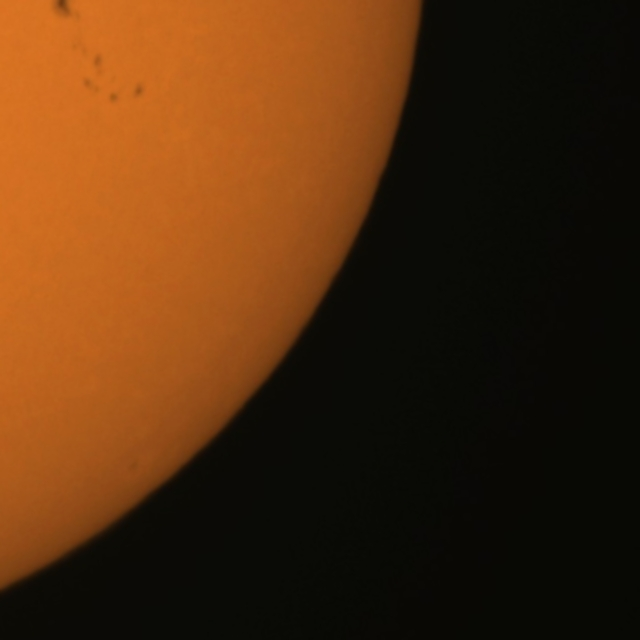sunspot: (68, 40, 106, 80), (82, 72, 122, 105), (52, 0, 84, 23), (131, 80, 147, 102)
